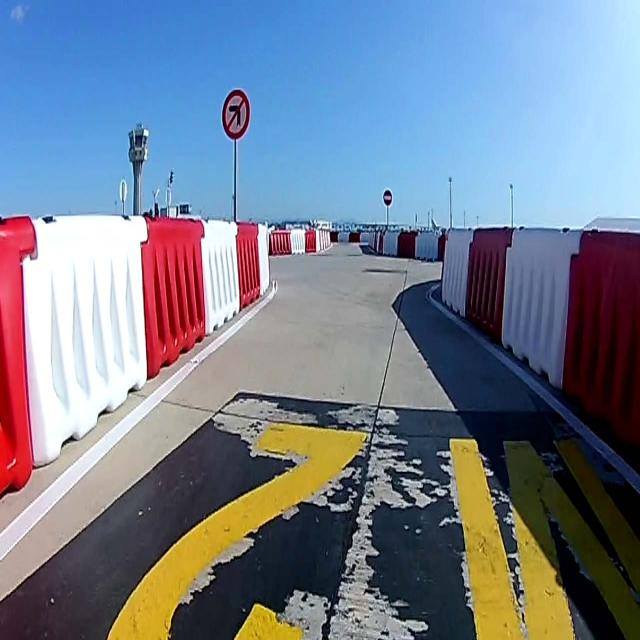soladonulmez: (222, 90, 249, 140)
